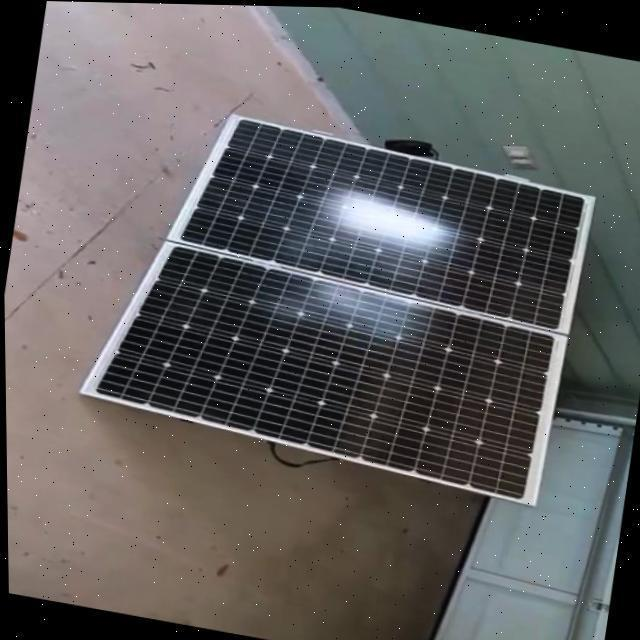Normal Solar Panel: (86, 232, 562, 499), (167, 107, 588, 327)
